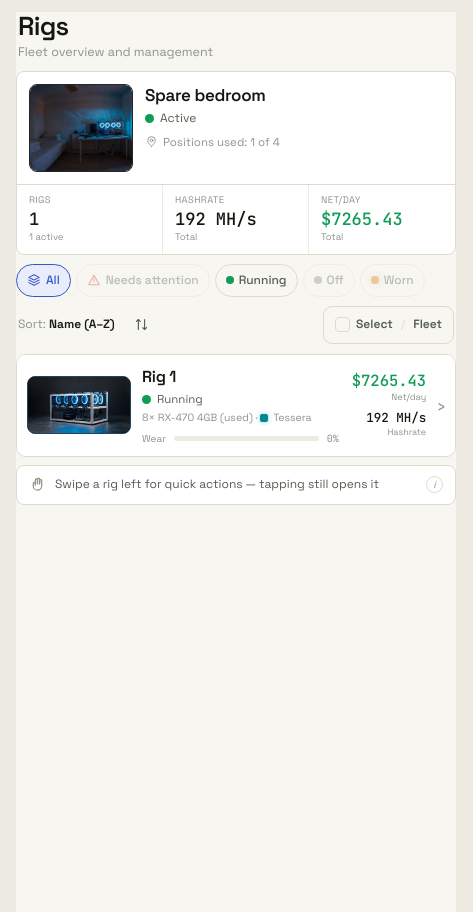
RigsView › the select bar sits outside the list so it can stay stuck to the bottom
Click the button with class "rigsel" showing "✓ Select" at [364, 325], box left=329, top=307, right=399, bottom=343
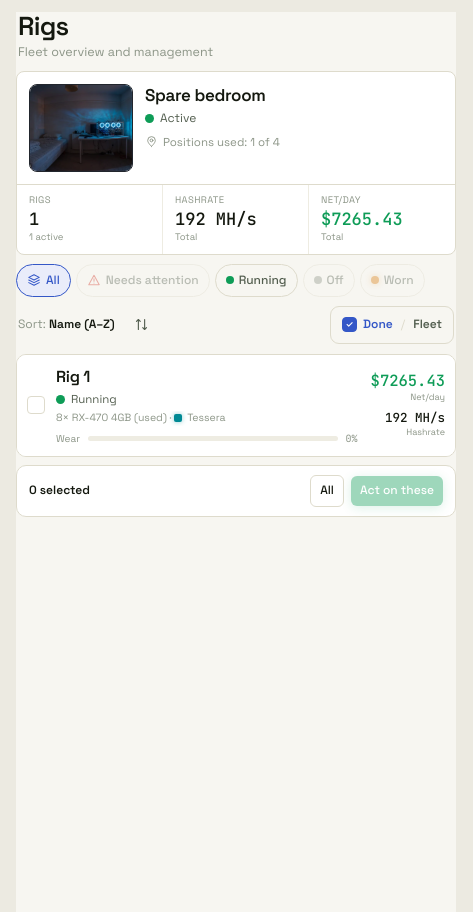
expect the element with class "selbar" is shown: met, box left=16, top=465, right=456, bottom=516
